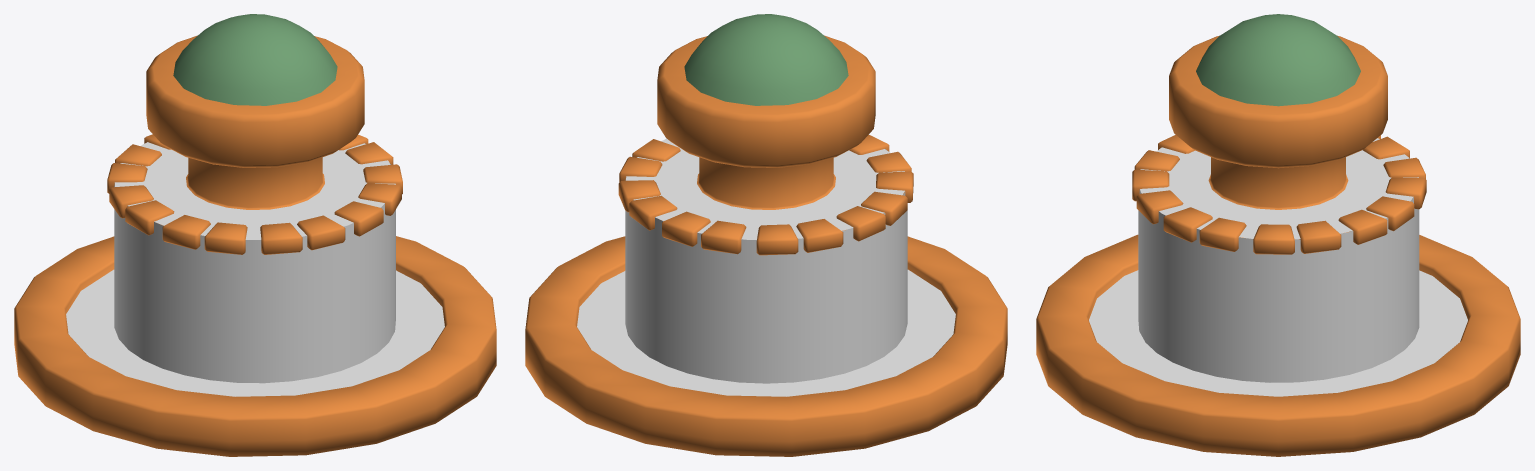
Rendered from FBX_Fountain_03.fbx.
3 views of the same model, side by side, from view 1: azimuth 30°, elevation 25°; view 2: azimuth 150°, elevation 25°; view 3: azimuth 270°, elevation 25° (orthographic).
Parts seen in each view (by area): view 1: Cylinder; view 2: Cylinder; view 3: Cylinder.
Part boxes in pixels (bbox=[...]): Cylinder: bbox=[14, 14, 496, 456]; Cylinder: bbox=[525, 14, 1007, 456]; Cylinder: bbox=[1036, 14, 1520, 456].
Bounding box in the file's own units: 121 × 91.64 × 121.
